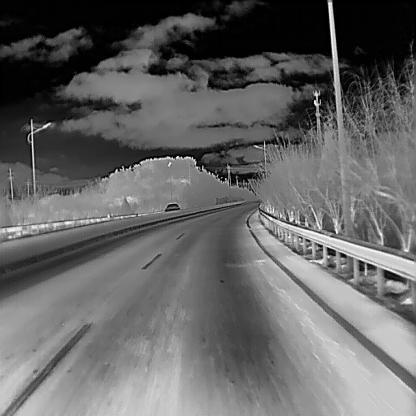car: (163, 202, 179, 214)
